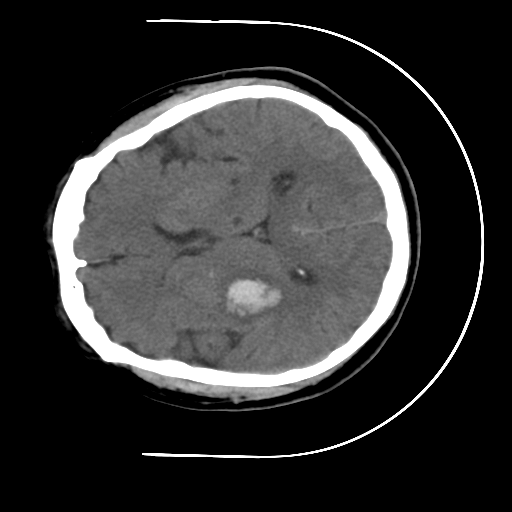a: (205, 257, 298, 334)
